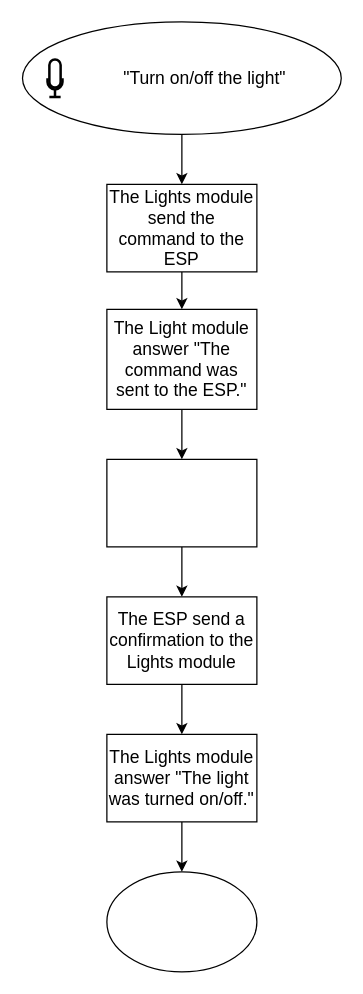
This 363x994 diagram has some shape labels left out. Here are the shapes that lost their labels. From the top down, the centre of each, then its label:
the point at 181,502: The ESP turn on/off the light
the point at 181,921: END
